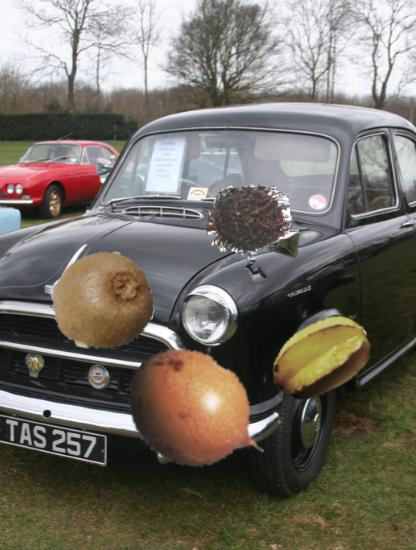Carambula: (268, 306, 374, 412)
Granadilla: (124, 339, 274, 489)
Kiwi: (52, 250, 156, 354)
Rambutan: (206, 178, 291, 263)
